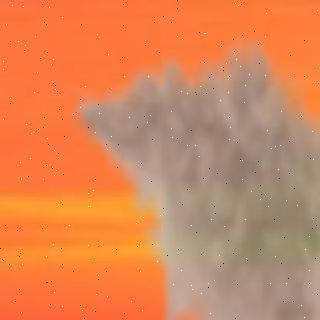smoke: (75, 56, 320, 320)
